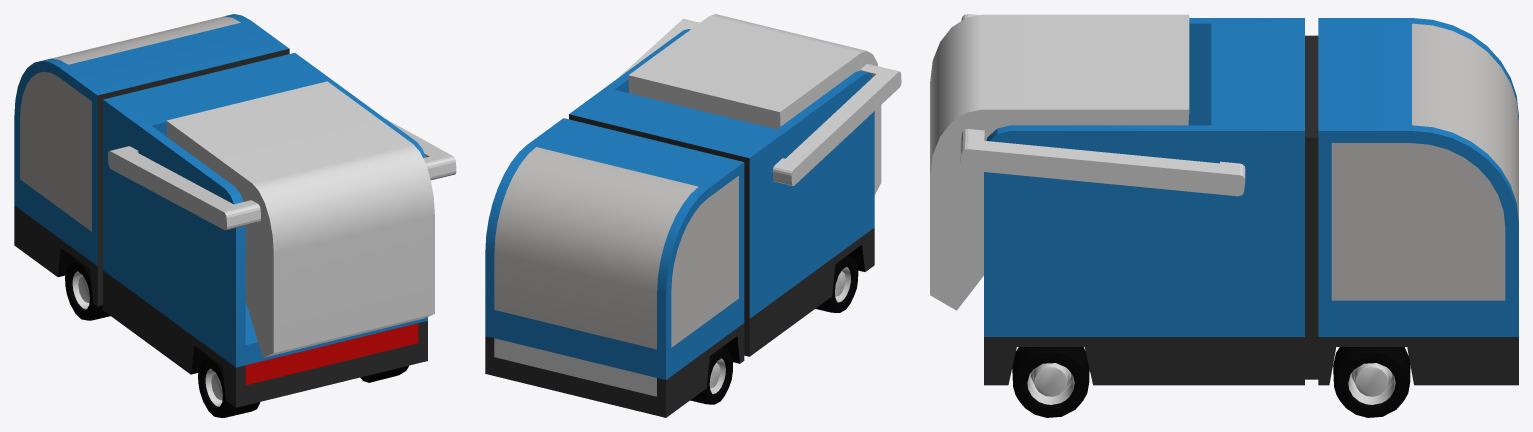
File: SM_GarbageTrack_Blue.fbx
3 views of the same model, side by side, from view 1: azimuth 30°, elevation 25°; view 2: azimuth 150°, elevation 25°; view 3: azimuth 270°, elevation 25° (orthographic). The views are drawn at different scales.
Visible parts, largest first — view 1: BodyBlue, Rear, WheelsRear, Wheels.Front; view 2: BodyBlue, Rear, Wheels.Front, WheelsRear; view 3: BodyBlue, Rear, Wheels.Front, WheelsRear.
Boxes of the visible parts, <box> form: BodyBlue: <box>14,14,427,407</box>; Rear: <box>108,81,456,357</box>; WheelsRear: <box>198,357,408,417</box>; Wheels.Front: <box>65,259,110,320</box>; BodyBlue: <box>485,29,874,417</box>; Rear: <box>617,14,901,194</box>; Wheels.Front: <box>690,347,732,404</box>; WheelsRear: <box>815,255,858,312</box>; BodyBlue: <box>984,18,1518,385</box>; Rear: <box>930,14,1245,310</box>; Wheels.Front: <box>1333,347,1410,417</box>; WheelsRear: <box>1012,347,1089,417</box>.
Size of the model in its own units: 241 by 251 by 440.
